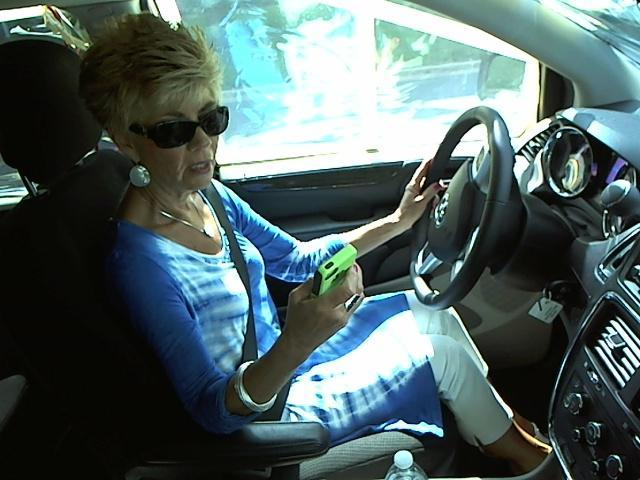PhoneUse: (310, 238, 358, 308)
